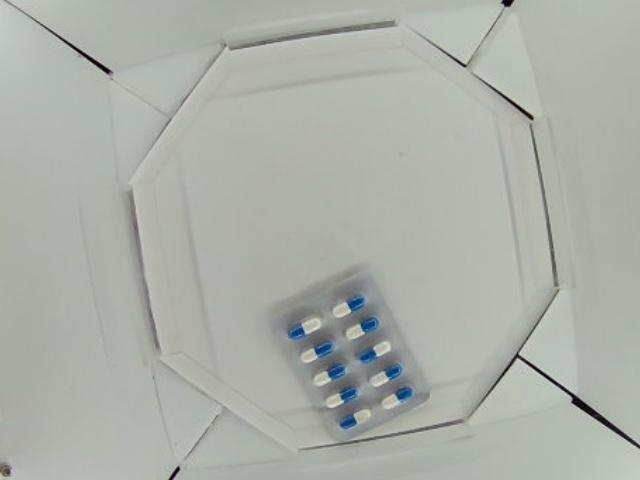Medicine: (270, 272, 432, 446)
